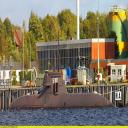submarine: (6, 73, 118, 108)
